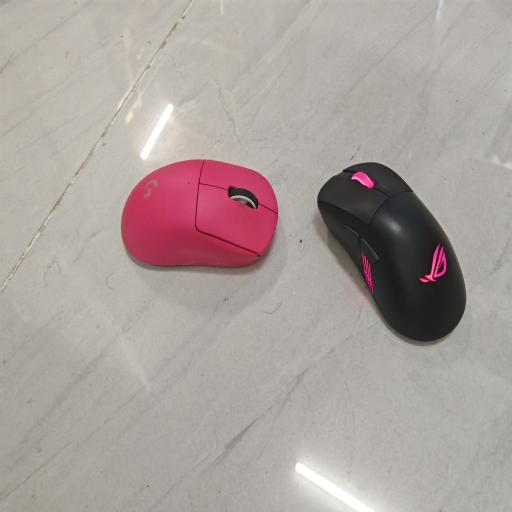mouse: (318, 163, 466, 341), (121, 160, 278, 266)
